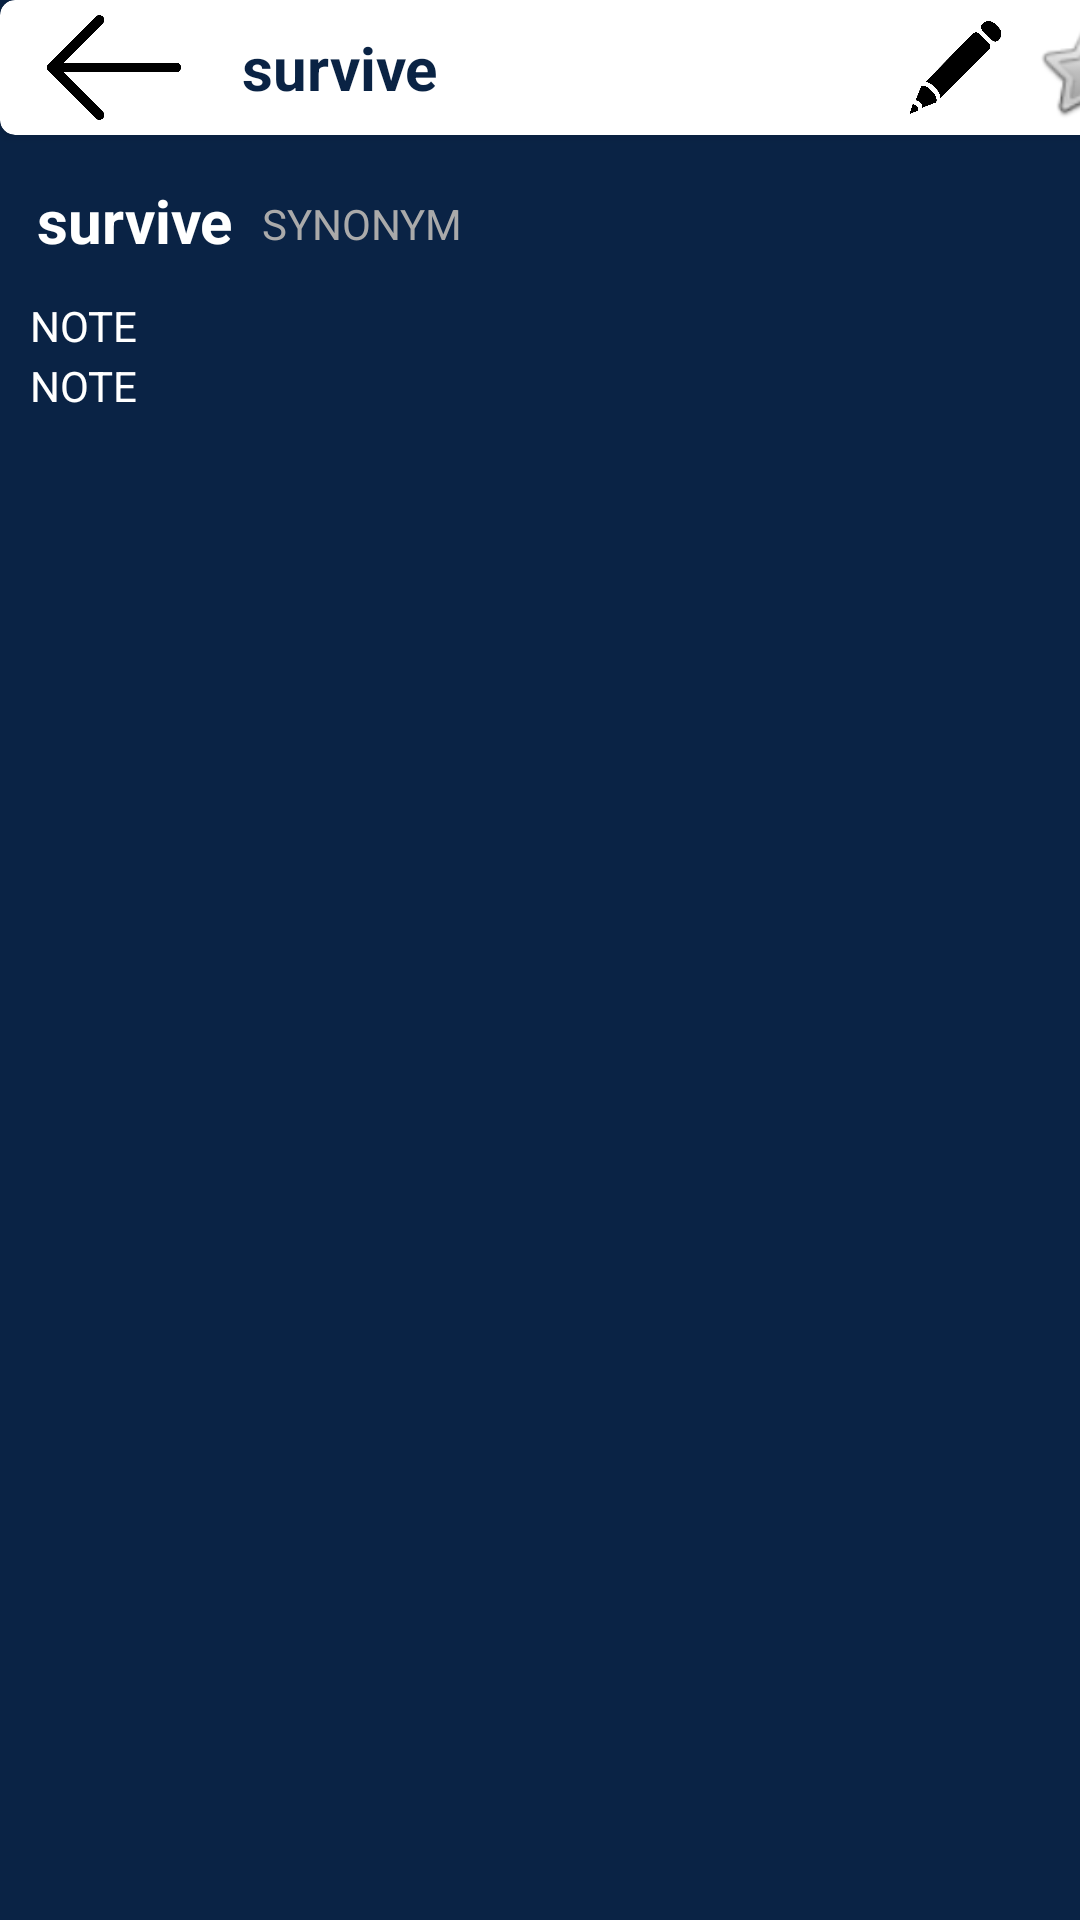

Icons on this 1080px×1920px Android screen, each with the point to tap as (x=x, y=y):
left arrow: (x=114, y=67)
pen: (x=955, y=67)
